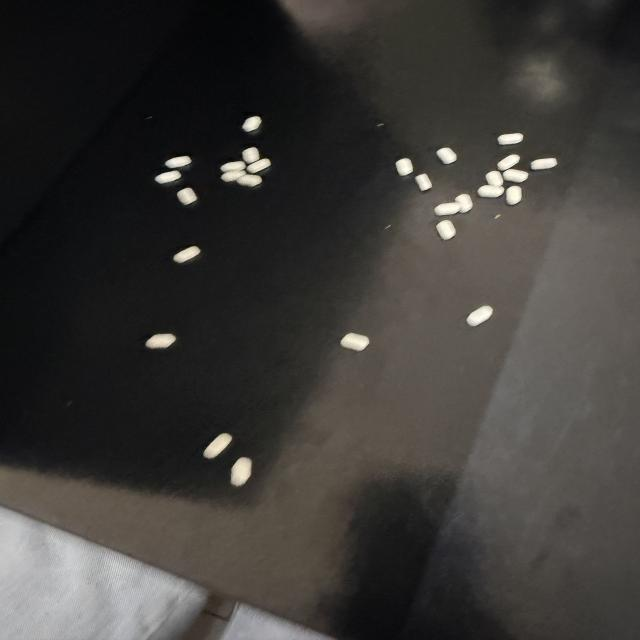pill: (203, 434, 232, 458), (231, 458, 252, 486), (467, 306, 493, 326), (341, 333, 369, 351), (173, 246, 200, 263), (146, 334, 176, 348), (154, 170, 182, 184), (436, 220, 455, 240), (497, 154, 520, 170), (247, 158, 271, 173), (177, 188, 197, 205), (434, 202, 460, 215), (503, 169, 528, 182), (242, 116, 262, 132), (506, 185, 522, 205), (478, 185, 504, 197), (531, 158, 557, 170), (455, 194, 472, 212), (437, 148, 456, 164), (221, 170, 246, 182), (498, 133, 523, 145), (166, 156, 191, 168), (396, 158, 413, 175), (236, 175, 262, 186), (221, 161, 246, 172), (243, 147, 259, 164), (416, 174, 432, 191), (486, 171, 503, 186)
